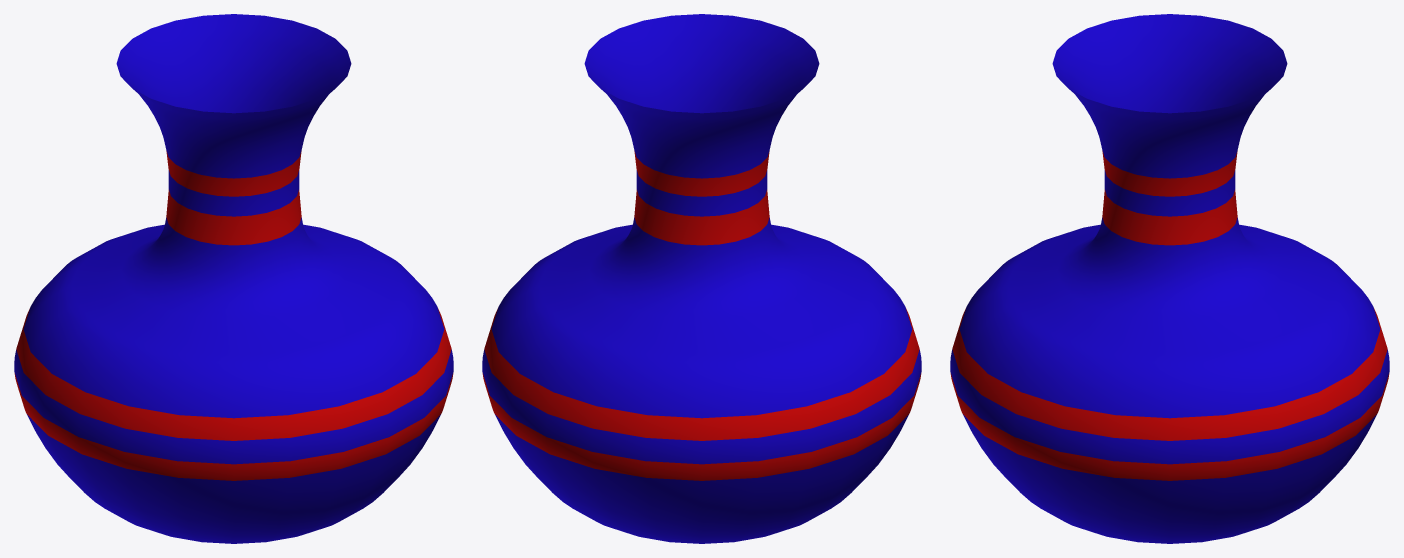
Rendered from vase.fbx.
The picture shows the model from 3 angles, left to right: view 1: azimuth 30°, elevation 25°; view 2: azimuth 150°, elevation 25°; view 3: azimuth 270°, elevation 25°; orthographic projection.
Parts seen in each view (by area): view 1: Lathe; view 2: Lathe; view 3: Lathe.
Boxes of the visible parts, x1,y1,x2,y2 form: Lathe: (14,14,453,543); Lathe: (482,14,921,543); Lathe: (950,14,1389,543).
Bounding box in the file's own units: 253 × 280 × 253.
